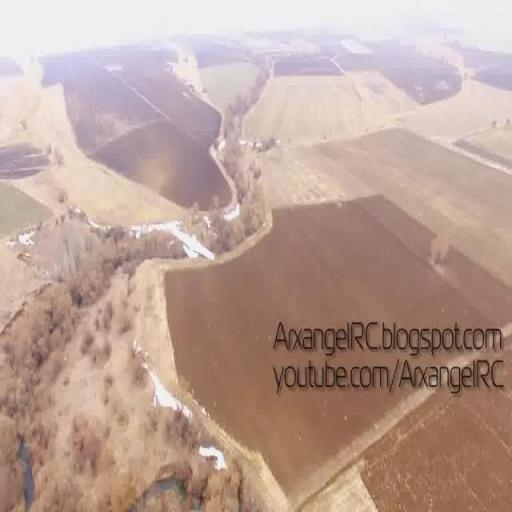uav: (172, 224, 216, 275)
